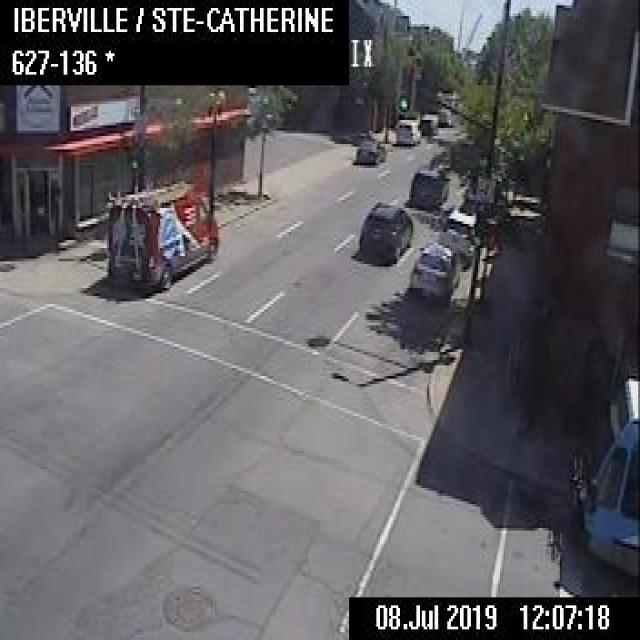bus: (568, 373, 638, 579)
vehicle: (104, 176, 216, 288), (354, 199, 412, 264), (405, 242, 457, 296), (441, 207, 478, 263), (406, 165, 446, 209), (351, 134, 387, 166), (393, 116, 419, 144), (417, 110, 438, 136), (434, 105, 452, 126)
